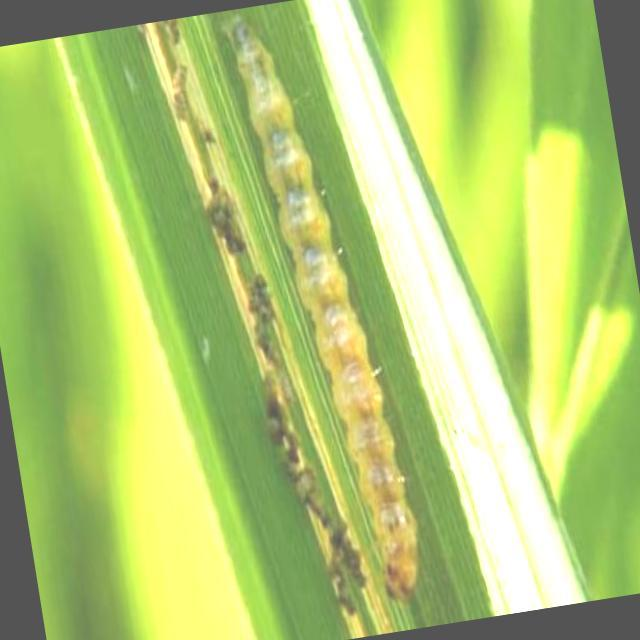leaf folder: (224, 19, 416, 599)
